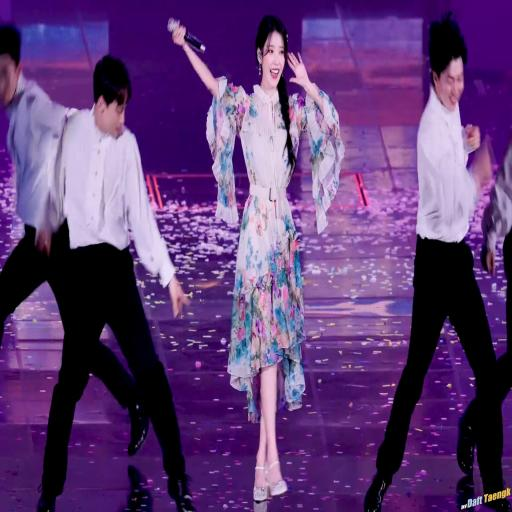IU: (257, 16, 289, 88)
